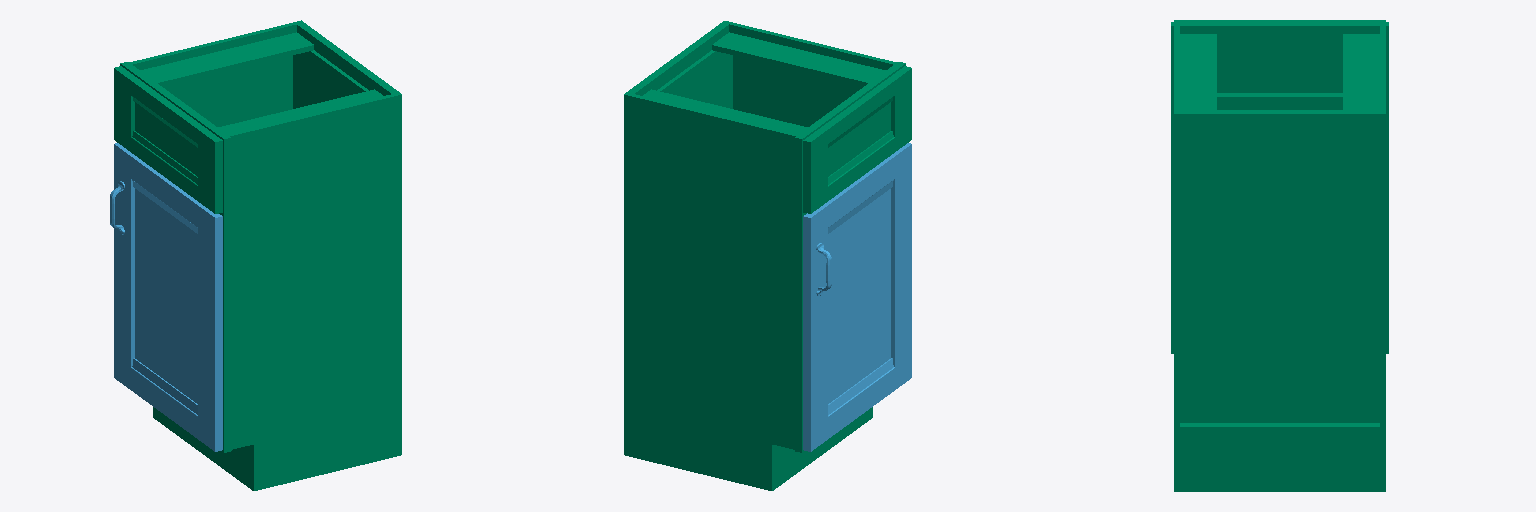
The robot description file, URDF, robot "partnet_1aa76e87d7bcf5c0c59350d819542ec7":
<?xml version="1.0" ?>
<robot name="partnet_1aa76e87d7bcf5c0c59350d819542ec7">
	<link name="base"/>
	<link name="link_0">
		<visual name="cabinet_door_surface-7">
			<origin xyz="-0.41314941441832825 0.6436600089073181 -0.4110788577816967"/>
			<geometry>
				<mesh filename="textured_objs/original-36.obj"/>
			</geometry>
		</visual>
		<visual name="cabinet_door_surface-7">
			<origin xyz="-0.41314941441832825 0.6436600089073181 -0.4110788577816967"/>
			<geometry>
				<mesh filename="textured_objs/original-33.obj"/>
			</geometry>
		</visual>
		<visual name="cabinet_door_surface-7">
			<origin xyz="-0.41314941441832825 0.6436600089073181 -0.4110788577816967"/>
			<geometry>
				<mesh filename="textured_objs/original-31.obj"/>
			</geometry>
		</visual>
		<visual name="cabinet_door_surface-7">
			<origin xyz="-0.41314941441832825 0.6436600089073181 -0.4110788577816967"/>
			<geometry>
				<mesh filename="textured_objs/original-32.obj"/>
			</geometry>
		</visual>
		<visual name="cabinet_door_surface-7">
			<origin xyz="-0.41314941441832825 0.6436600089073181 -0.4110788577816967"/>
			<geometry>
				<mesh filename="textured_objs/original-34.obj"/>
			</geometry>
		</visual>
		<visual name="cabinet_door_surface-7">
			<origin xyz="-0.41314941441832825 0.6436600089073181 -0.4110788577816967"/>
			<geometry>
				<mesh filename="textured_objs/original-37.obj"/>
			</geometry>
		</visual>
		<visual name="handle-8">
			<origin xyz="-0.41314941441832825 0.6436600089073181 -0.4110788577816967"/>
			<geometry>
				<mesh filename="textured_objs/original-38.obj"/>
			</geometry>
		</visual>
		<collision>
			<origin xyz="-0.41314941441832825 0.6436600089073181 -0.4110788577816967"/>
			<geometry>
				<mesh filename="textured_objs/original-36.obj"/>
			</geometry>
		</collision>
		<collision>
			<origin xyz="-0.41314941441832825 0.6436600089073181 -0.4110788577816967"/>
			<geometry>
				<mesh filename="textured_objs/original-33.obj"/>
			</geometry>
		</collision>
		<collision>
			<origin xyz="-0.41314941441832825 0.6436600089073181 -0.4110788577816967"/>
			<geometry>
				<mesh filename="textured_objs/original-31.obj"/>
			</geometry>
		</collision>
		<collision>
			<origin xyz="-0.41314941441832825 0.6436600089073181 -0.4110788577816967"/>
			<geometry>
				<mesh filename="textured_objs/original-32.obj"/>
			</geometry>
		</collision>
		<collision>
			<origin xyz="-0.41314941441832825 0.6436600089073181 -0.4110788577816967"/>
			<geometry>
				<mesh filename="textured_objs/original-34.obj"/>
			</geometry>
		</collision>
		<collision>
			<origin xyz="-0.41314941441832825 0.6436600089073181 -0.4110788577816967"/>
			<geometry>
				<mesh filename="textured_objs/original-37.obj"/>
			</geometry>
		</collision>
		<collision>
			<origin xyz="-0.41314941441832825 0.6436600089073181 -0.4110788577816967"/>
			<geometry>
				<mesh filename="textured_objs/original-38.obj"/>
			</geometry>
		</collision>
	</link>
	<joint name="joint_0" type="revolute">
		<origin xyz="0.41314941441832825 -0.6436600089073181 0.4110788577816967"/>
		<axis xyz="0 1 0"/>
		<child link="link_0"/>
		<parent link="link_1"/>
		<limit lower="-0.0" upper="1.658760921095411"/>
	</joint>
	<link name="link_1">
		<visual name="drawer_front-6">
			<origin xyz="0 0 0"/>
			<geometry>
				<mesh filename="textured_objs/original-29.obj"/>
			</geometry>
		</visual>
		<visual name="drawer_front-6">
			<origin xyz="0 0 0"/>
			<geometry>
				<mesh filename="textured_objs/original-23.obj"/>
			</geometry>
		</visual>
		<visual name="drawer_front-6">
			<origin xyz="0 0 0"/>
			<geometry>
				<mesh filename="textured_objs/original-26.obj"/>
			</geometry>
		</visual>
		<visual name="drawer_front-6">
			<origin xyz="0 0 0"/>
			<geometry>
				<mesh filename="textured_objs/original-24.obj"/>
			</geometry>
		</visual>
		<visual name="drawer_front-6">
			<origin xyz="0 0 0"/>
			<geometry>
				<mesh filename="textured_objs/original-25.obj"/>
			</geometry>
		</visual>
		<visual name="drawer_front-6">
			<origin xyz="0 0 0"/>
			<geometry>
				<mesh filename="textured_objs/original-28.obj"/>
			</geometry>
		</visual>
		<visual name="vertical_side_panel-16">
			<origin xyz="0 0 0"/>
			<geometry>
				<mesh filename="textured_objs/original-15.obj"/>
			</geometry>
		</visual>
		<visual name="vertical_side_panel-16">
			<origin xyz="0 0 0"/>
			<geometry>
				<mesh filename="textured_objs/original-14.obj"/>
			</geometry>
		</visual>
		<visual name="vertical_side_panel-17">
			<origin xyz="0 0 0"/>
			<geometry>
				<mesh filename="textured_objs/original-11.obj"/>
			</geometry>
		</visual>
		<visual name="vertical_side_panel-17">
			<origin xyz="0 0 0"/>
			<geometry>
				<mesh filename="textured_objs/original-10.obj"/>
			</geometry>
		</visual>
		<visual name="back_panel-18">
			<origin xyz="0 0 0"/>
			<geometry>
				<mesh filename="textured_objs/original-39.obj"/>
			</geometry>
		</visual>
		<visual name="back_panel-18">
			<origin xyz="0 0 0"/>
			<geometry>
				<mesh filename="textured_objs/original-5.obj"/>
			</geometry>
		</visual>
		<visual name="bottom_panel-19">
			<origin xyz="0 0 0"/>
			<geometry>
				<mesh filename="textured_objs/original-2.obj"/>
			</geometry>
		</visual>
		<visual name="frame_vertical_bar-20">
			<origin xyz="0 0 0"/>
			<geometry>
				<mesh filename="textured_objs/original-3.obj"/>
			</geometry>
		</visual>
		<visual name="frame_vertical_bar-21">
			<origin xyz="0 0 0"/>
			<geometry>
				<mesh filename="textured_objs/original-7.obj"/>
			</geometry>
		</visual>
		<visual name="frame_horizontal_bar-22">
			<origin xyz="0 0 0"/>
			<geometry>
				<mesh filename="textured_objs/original-21.obj"/>
			</geometry>
		</visual>
		<visual name="frame_horizontal_bar-23">
			<origin xyz="0 0 0"/>
			<geometry>
				<mesh filename="textured_objs/original-20.obj"/>
			</geometry>
		</visual>
		<visual name="frame_horizontal_bar-24">
			<origin xyz="0 0 0"/>
			<geometry>
				<mesh filename="textured_objs/original-4.obj"/>
			</geometry>
		</visual>
		<visual name="frame_horizontal_bar-25">
			<origin xyz="0 0 0"/>
			<geometry>
				<mesh filename="textured_objs/original-6.obj"/>
			</geometry>
		</visual>
		<visual name="frame_horizontal_bar-26">
			<origin xyz="0 0 0"/>
			<geometry>
				<mesh filename="textured_objs/original-17.obj"/>
			</geometry>
		</visual>
		<visual name="frame_horizontal_bar-27">
			<origin xyz="0 0 0"/>
			<geometry>
				<mesh filename="textured_objs/original-8.obj"/>
			</geometry>
		</visual>
		<visual name="base_side_panel-12">
			<origin xyz="0 0 0"/>
			<geometry>
				<mesh filename="textured_objs/original-18.obj"/>
			</geometry>
		</visual>
		<visual name="base_side_panel-13">
			<origin xyz="0 0 0"/>
			<geometry>
				<mesh filename="textured_objs/original-12.obj"/>
			</geometry>
		</visual>
		<visual name="base_side_panel-14">
			<origin xyz="0 0 0"/>
			<geometry>
				<mesh filename="textured_objs/original-19.obj"/>
			</geometry>
		</visual>
		<visual name="base_side_panel-15">
			<origin xyz="0 0 0"/>
			<geometry>
				<mesh filename="textured_objs/original-16.obj"/>
			</geometry>
		</visual>
		<collision>
			<origin xyz="0 0 0"/>
			<geometry>
				<mesh filename="textured_objs/original-29.obj"/>
			</geometry>
		</collision>
		<collision>
			<origin xyz="0 0 0"/>
			<geometry>
				<mesh filename="textured_objs/original-23.obj"/>
			</geometry>
		</collision>
		<collision>
			<origin xyz="0 0 0"/>
			<geometry>
				<mesh filename="textured_objs/original-26.obj"/>
			</geometry>
		</collision>
		<collision>
			<origin xyz="0 0 0"/>
			<geometry>
				<mesh filename="textured_objs/original-24.obj"/>
			</geometry>
		</collision>
		<collision>
			<origin xyz="0 0 0"/>
			<geometry>
				<mesh filename="textured_objs/original-25.obj"/>
			</geometry>
		</collision>
		<collision>
			<origin xyz="0 0 0"/>
			<geometry>
				<mesh filename="textured_objs/original-28.obj"/>
			</geometry>
		</collision>
		<collision>
			<origin xyz="0 0 0"/>
			<geometry>
				<mesh filename="textured_objs/original-15.obj"/>
			</geometry>
		</collision>
		<collision>
			<origin xyz="0 0 0"/>
			<geometry>
				<mesh filename="textured_objs/original-14.obj"/>
			</geometry>
		</collision>
		<collision>
			<origin xyz="0 0 0"/>
			<geometry>
				<mesh filename="textured_objs/original-11.obj"/>
			</geometry>
		</collision>
		<collision>
			<origin xyz="0 0 0"/>
			<geometry>
				<mesh filename="textured_objs/original-10.obj"/>
			</geometry>
		</collision>
		<collision>
			<origin xyz="0 0 0"/>
			<geometry>
				<mesh filename="textured_objs/original-39.obj"/>
			</geometry>
		</collision>
		<collision>
			<origin xyz="0 0 0"/>
			<geometry>
				<mesh filename="textured_objs/original-5.obj"/>
			</geometry>
		</collision>
		<collision>
			<origin xyz="0 0 0"/>
			<geometry>
				<mesh filename="textured_objs/original-2.obj"/>
			</geometry>
		</collision>
		<collision>
			<origin xyz="0 0 0"/>
			<geometry>
				<mesh filename="textured_objs/original-3.obj"/>
			</geometry>
		</collision>
		<collision>
			<origin xyz="0 0 0"/>
			<geometry>
				<mesh filename="textured_objs/original-7.obj"/>
			</geometry>
		</collision>
		<collision>
			<origin xyz="0 0 0"/>
			<geometry>
				<mesh filename="textured_objs/original-21.obj"/>
			</geometry>
		</collision>
		<collision>
			<origin xyz="0 0 0"/>
			<geometry>
				<mesh filename="textured_objs/original-20.obj"/>
			</geometry>
		</collision>
		<collision>
			<origin xyz="0 0 0"/>
			<geometry>
				<mesh filename="textured_objs/original-4.obj"/>
			</geometry>
		</collision>
		<collision>
			<origin xyz="0 0 0"/>
			<geometry>
				<mesh filename="textured_objs/original-6.obj"/>
			</geometry>
		</collision>
		<collision>
			<origin xyz="0 0 0"/>
			<geometry>
				<mesh filename="textured_objs/original-17.obj"/>
			</geometry>
		</collision>
		<collision>
			<origin xyz="0 0 0"/>
			<geometry>
				<mesh filename="textured_objs/original-8.obj"/>
			</geometry>
		</collision>
		<collision>
			<origin xyz="0 0 0"/>
			<geometry>
				<mesh filename="textured_objs/original-18.obj"/>
			</geometry>
		</collision>
		<collision>
			<origin xyz="0 0 0"/>
			<geometry>
				<mesh filename="textured_objs/original-12.obj"/>
			</geometry>
		</collision>
		<collision>
			<origin xyz="0 0 0"/>
			<geometry>
				<mesh filename="textured_objs/original-19.obj"/>
			</geometry>
		</collision>
		<collision>
			<origin xyz="0 0 0"/>
			<geometry>
				<mesh filename="textured_objs/original-16.obj"/>
			</geometry>
		</collision>
	</link>
	<joint name="joint_1" type="fixed">
		<origin rpy="1.570796326794897 0 -1.570796326794897" xyz="0 0 0"/>
		<child link="link_1"/>
		<parent link="base"/>
	</joint>
</robot>

--- What the picture shows (computed from the rendered views, not written in the file) ---
Views: 3 orthographic renders of the robot side by side, from view 1: azimuth 30°, elevation 25°; view 2: azimuth 150°, elevation 25°; view 3: azimuth 270°, elevation 25°.
Model partnet_1aa76e87d7bcf5c0c59350d819542ec7 with 3 links and 2 joints (1 revolute, 1 fixed), rooted at base, posed every joint at zero.
Visible links, largest first — view 1: link_1, link_0; view 2: link_1, link_0; view 3: link_1.
Link boxes in pixels (left/top/right/bottom): link_1: left=114, top=20, right=401, bottom=490; link_0: left=110, top=143, right=222, bottom=451; link_1: left=624, top=21, right=911, bottom=490; link_0: left=803, top=143, right=911, bottom=451; link_1: left=1171, top=20, right=1388, bottom=491.
Size in the robot's own frame: 0.9427 by 0.8524 by 1.63 metres.
Meshes: 32 distinct files referenced, 32 mesh visuals loaded (32 OBJ).
